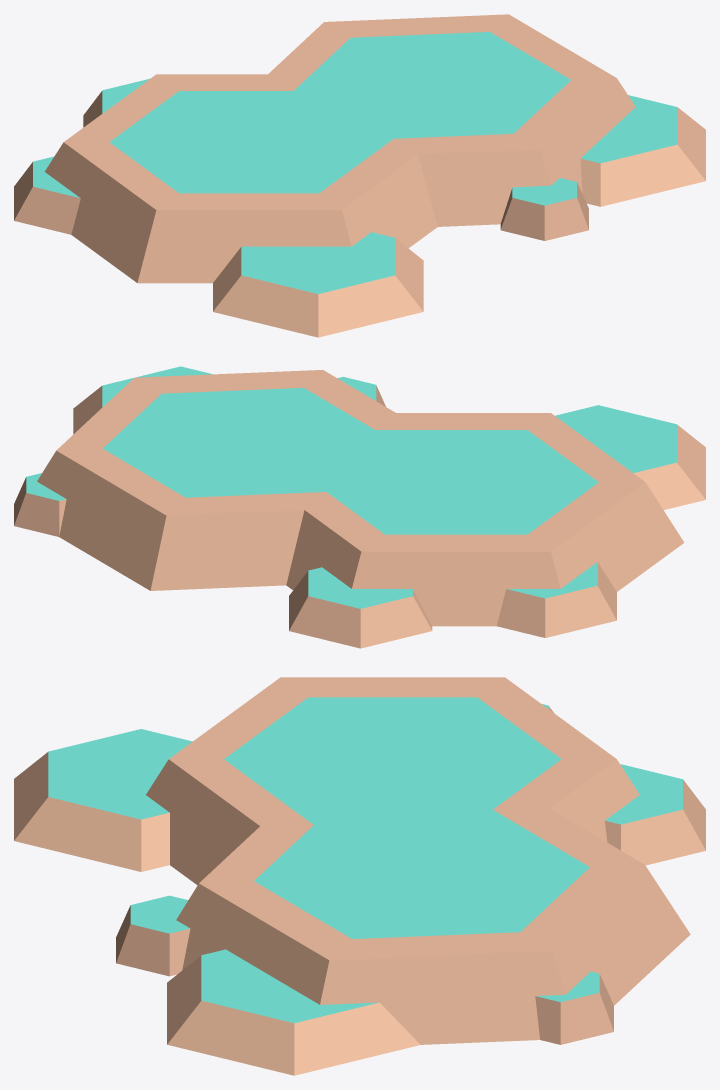
The model's file is platform_grass.glb.
The picture shows the model from 3 angles, top to bottom: view 1: azimuth 30°, elevation 25°; view 2: azimuth 150°, elevation 25°; view 3: azimuth 270°, elevation 25°; orthographic projection. The views are drawn at different scales.
Visible parts, largest first — view 1: platform_grass; view 2: platform_grass; view 3: platform_grass.
Part boxes in pixels (x1,y1,x2,y2): platform_grass: [14, 14, 705, 337]; platform_grass: [14, 366, 705, 648]; platform_grass: [14, 677, 705, 1075].
Size of the model in its own units: 0.8932 by 0.0825 by 0.7239.
Materials: 1 (1 with a texture image).
